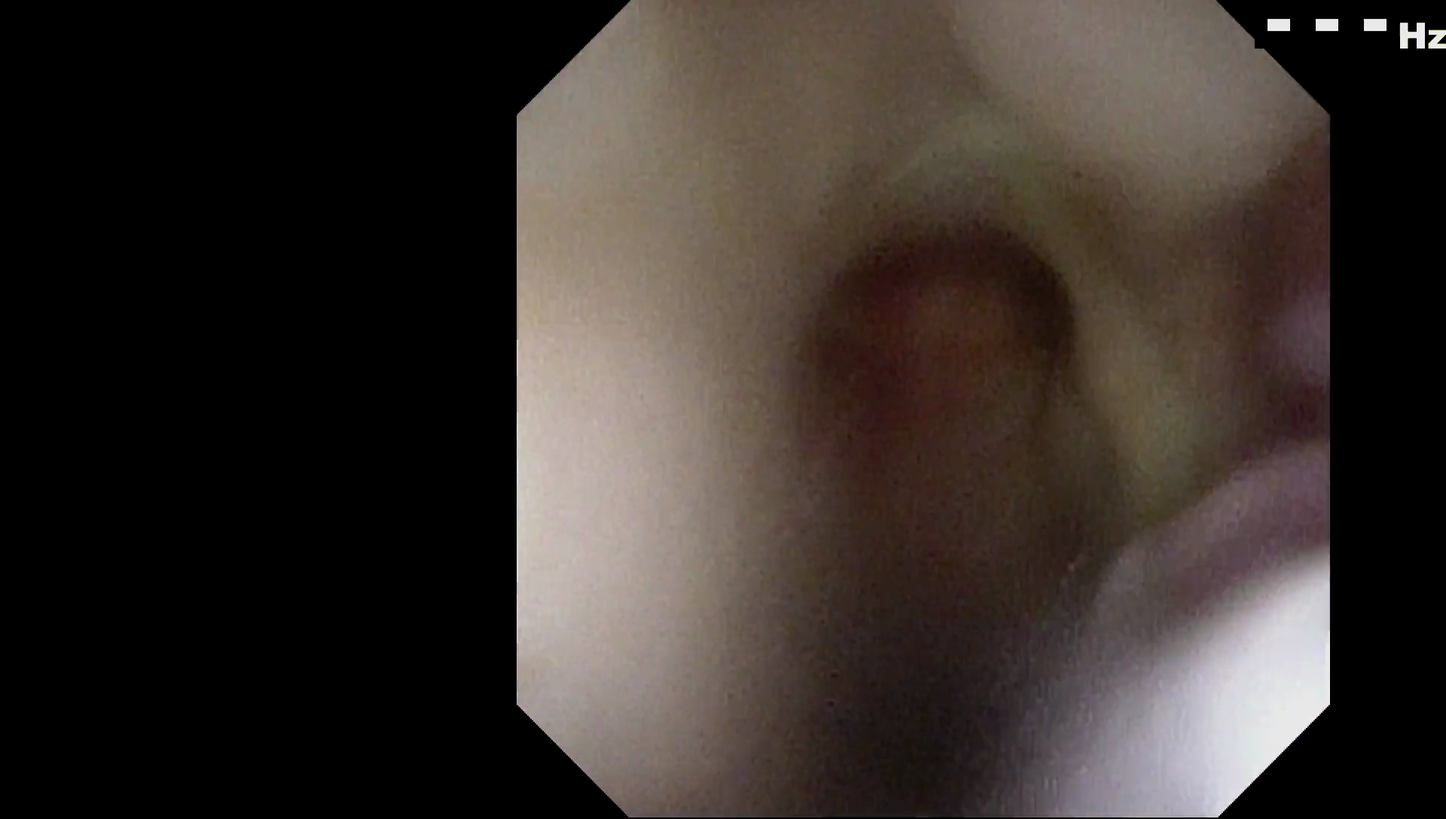close_wall: (524, 121, 821, 700)
next: (769, 580, 1049, 808), (943, 220, 1099, 377)
